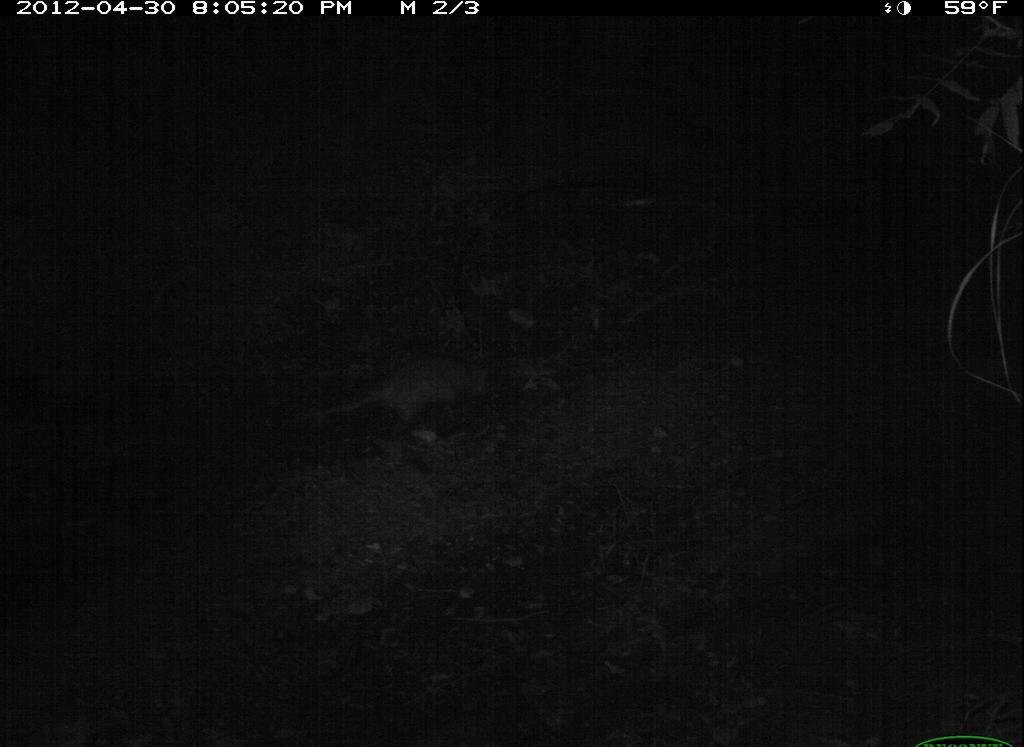opossum: (290, 345, 513, 443)
